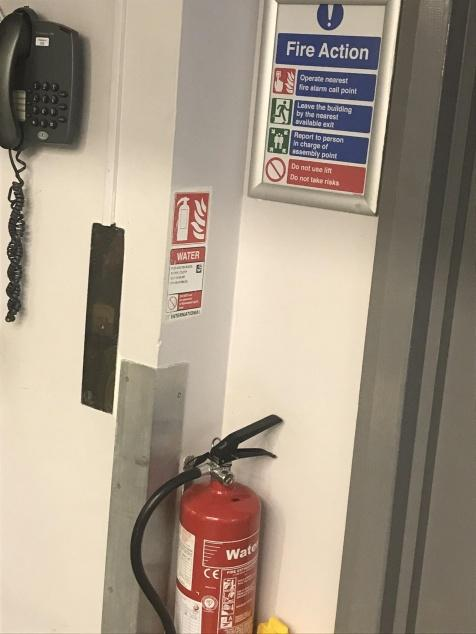APAR: (171, 414, 283, 633)
